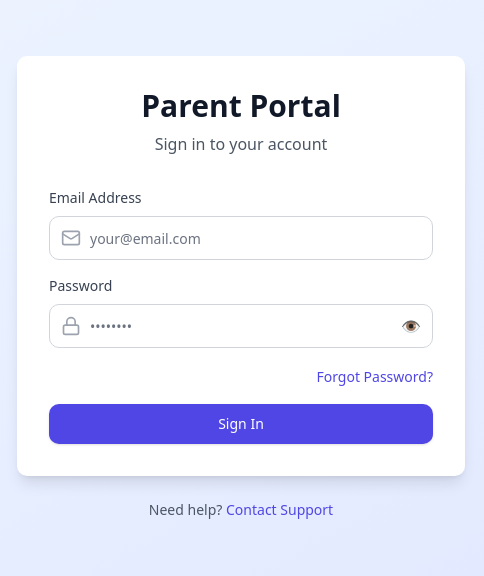
ParentLoginPage › Form Validation › should show error for password less than 6 characters
The width and height of the screenshot is (484, 576).
In the field labelled "Email Address": (241, 238) left=49, top=216, right=433, bottom=260, type "test@example.com"
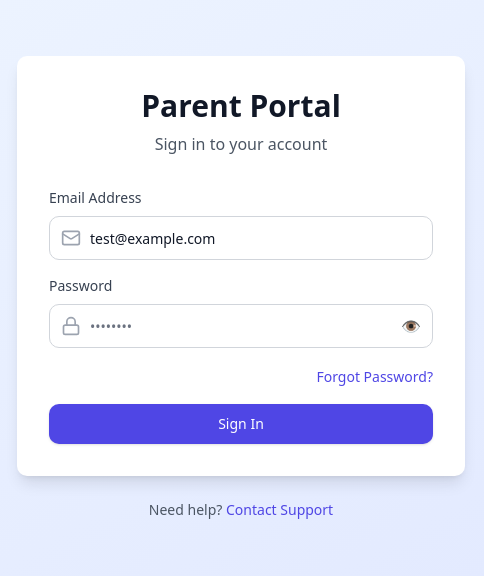
In the password field labelled "Password": (241, 326) left=49, top=304, right=433, bottom=348, type "12345"
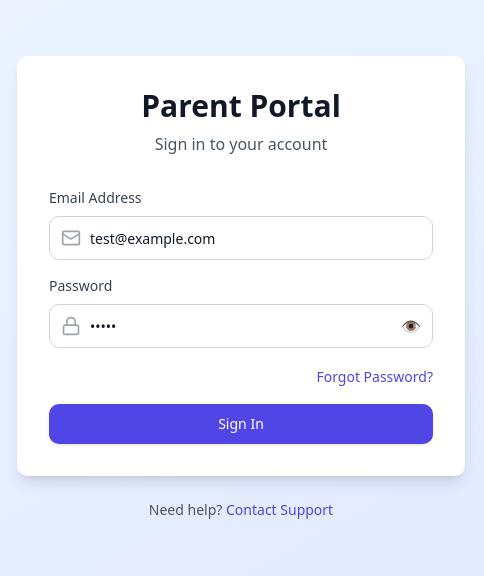
Click the button "Sign In": (241, 424) left=49, top=404, right=433, bottom=444
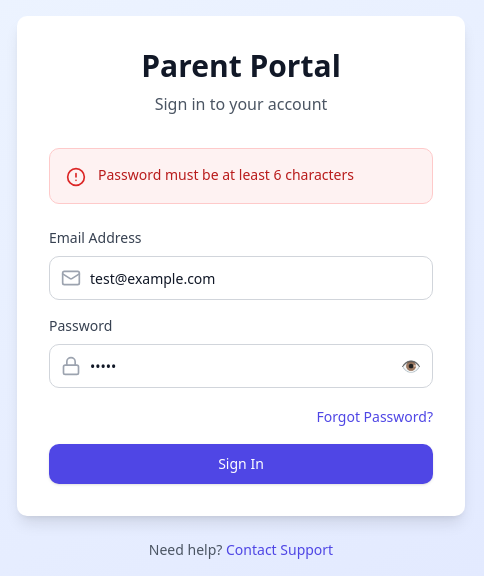
Expected: the text "Password must be at least 6 characters" is shown, left=98, top=165, right=354, bottom=187
